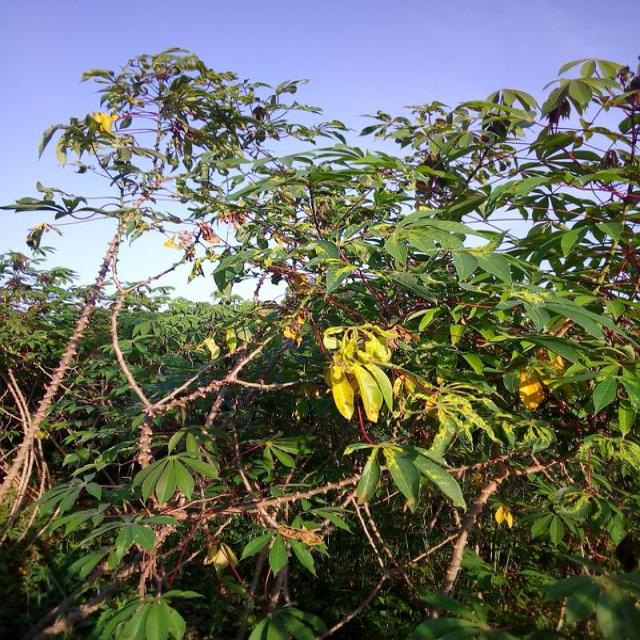cassava leaf: (2, 44, 640, 636)
